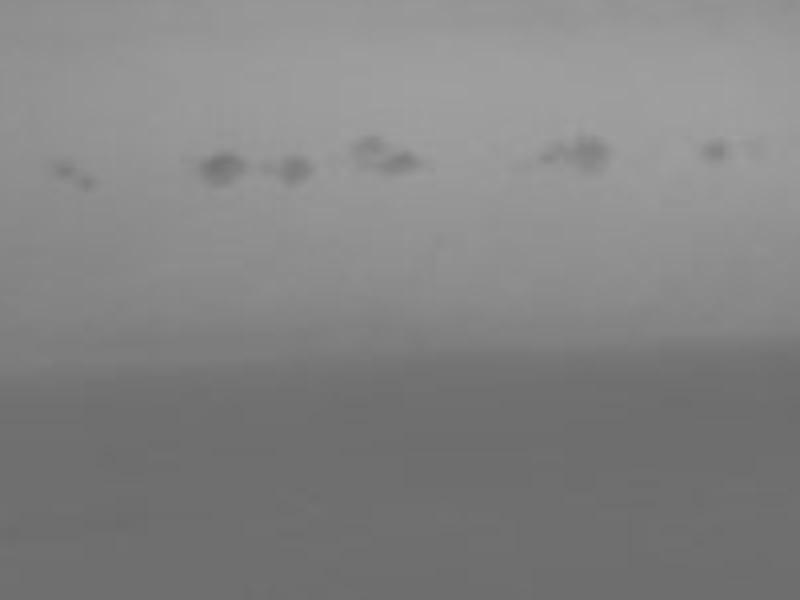defect: (574, 133, 616, 178), (201, 154, 247, 190), (277, 153, 312, 187), (379, 157, 420, 175), (543, 140, 567, 167), (705, 138, 730, 163), (352, 136, 381, 156), (56, 159, 77, 177), (81, 177, 99, 192)
